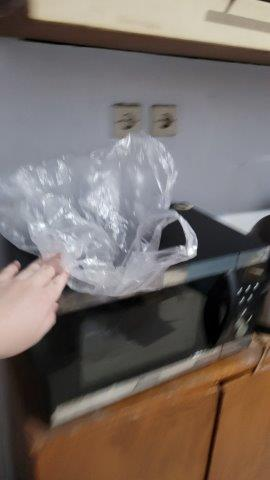plastik: (1, 128, 197, 300)
